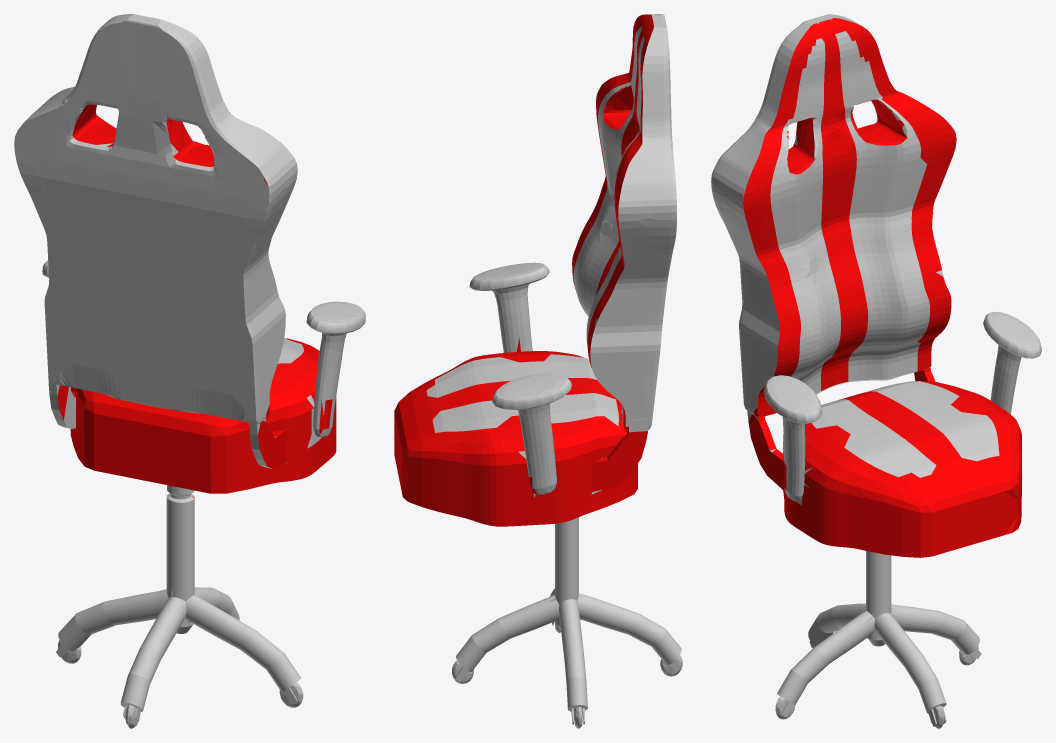
Rendered from silla5.obj.
3 views of the same model, side by side, from view 1: azimuth 30°, elevation 25°; view 2: azimuth 150°, elevation 25°; view 3: azimuth 270°, elevation 25° (orthographic). The views are drawn at different scales.
Visible parts, largest first — view 1: Polygon; view 2: Polygon; view 3: Polygon.
Boxes of the visible parts, x1,y1,x2,y2 form: Polygon: (14,14,365,728); Polygon: (394,14,682,728); Polygon: (711,14,1041,728).
Size of the model in its own units: 388 by 865 by 403.
